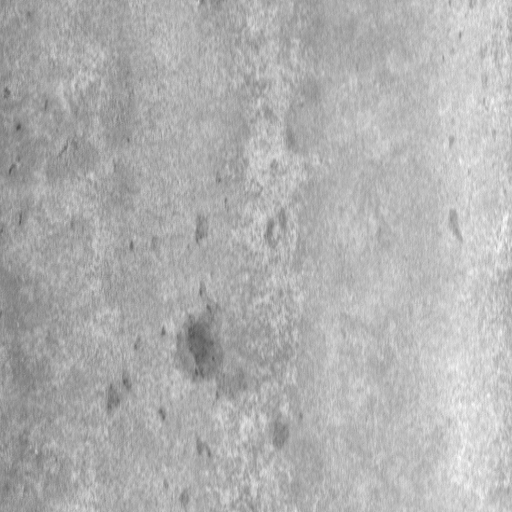aokeng: (177, 319, 225, 387)
